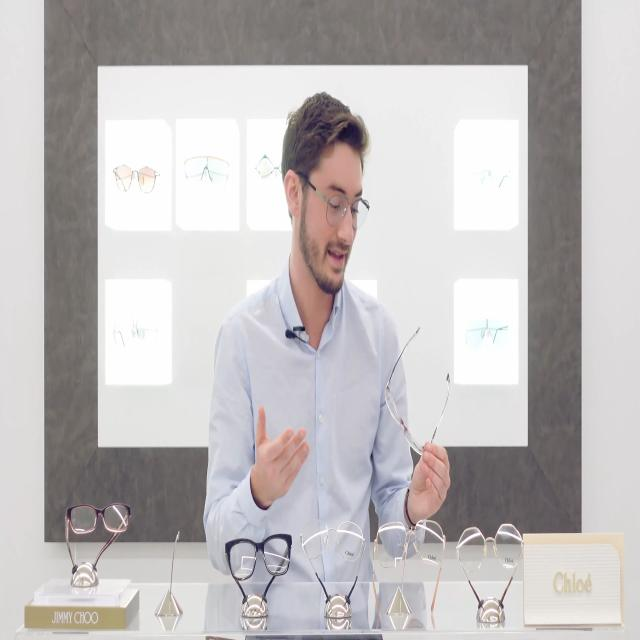dress: (204, 256, 428, 584)
glasses: (379, 381, 431, 465), (322, 183, 370, 236)
